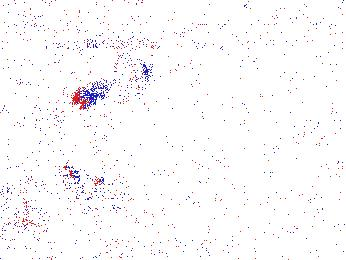flame jellyfish: (75, 53, 153, 110), (61, 164, 133, 216), (1, 169, 36, 219)
